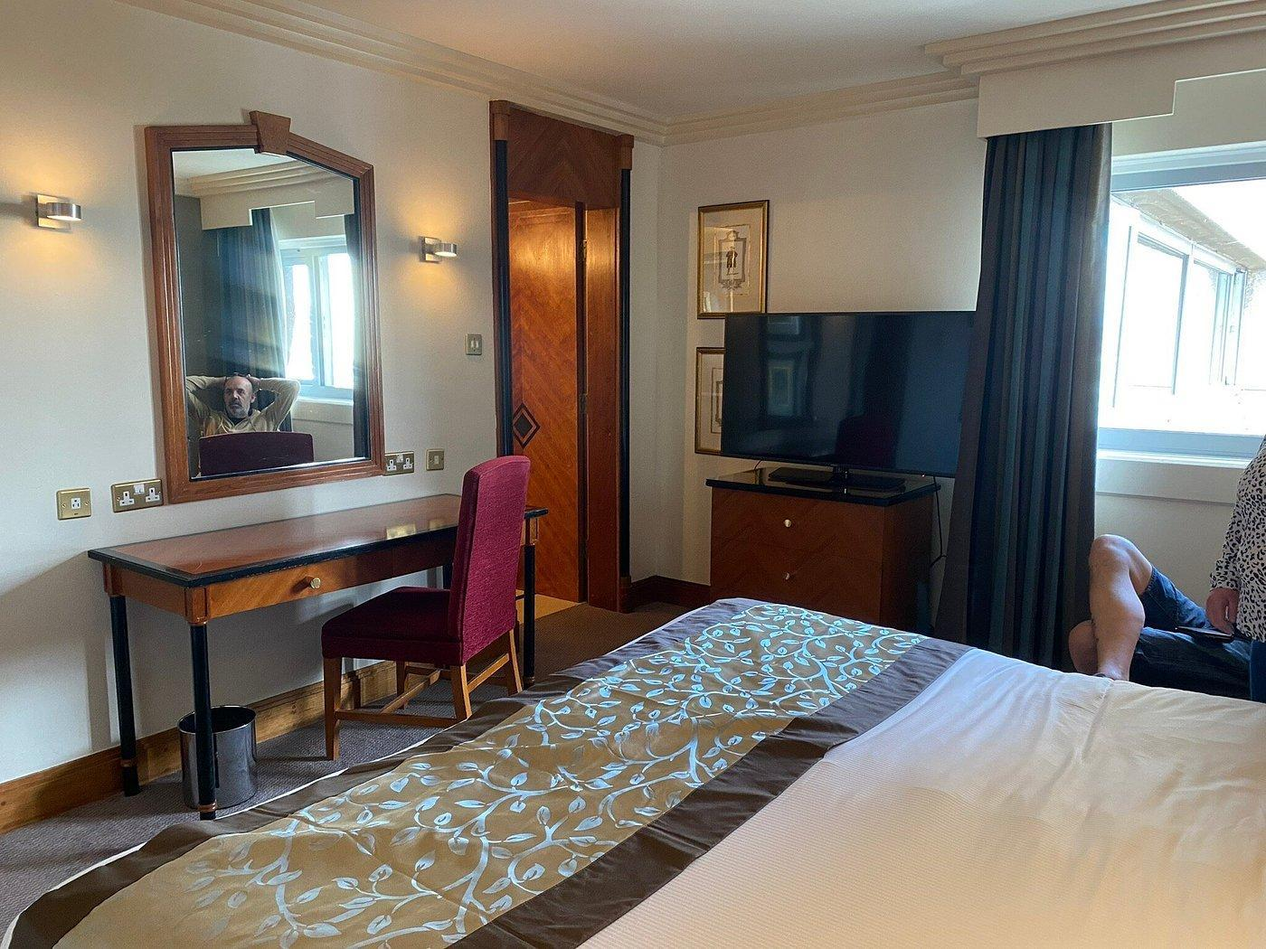clean_bed: (476, 676, 1266, 949)
messy_sink: (416, 428, 536, 769)
organized table: (105, 478, 547, 587)
